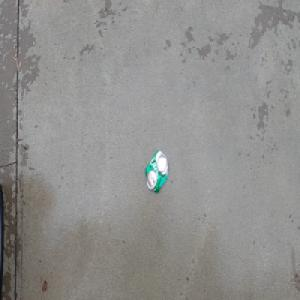SodaCan: (144, 148, 169, 194)
